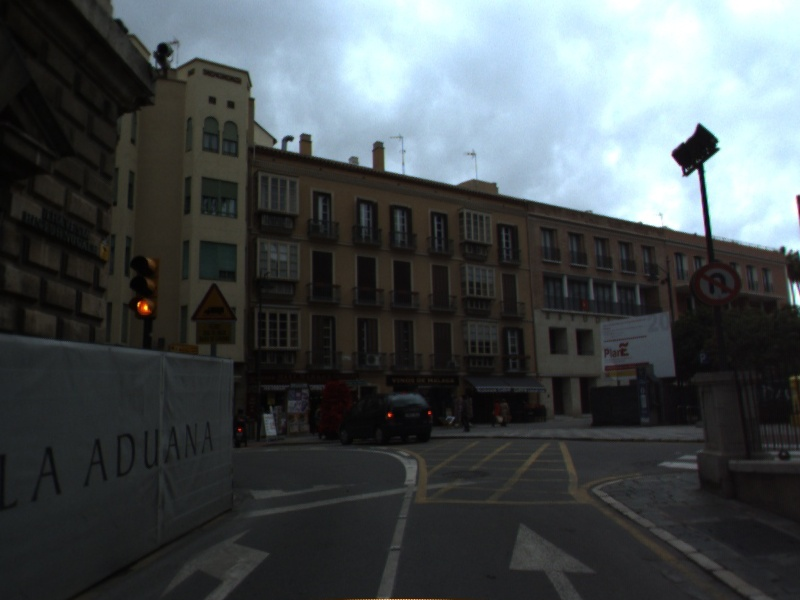LEFT: (154, 525, 275, 600)
STRAIGHT: (506, 520, 599, 600)
